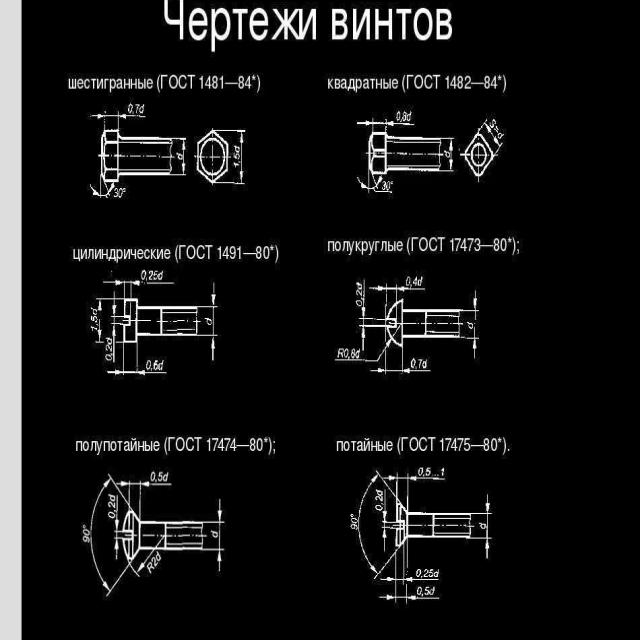marking_line: (210, 285, 218, 363), (216, 497, 224, 574), (382, 474, 447, 483), (116, 478, 177, 487), (471, 292, 479, 360), (378, 575, 442, 583), (91, 114, 150, 122), (379, 594, 439, 601), (373, 369, 432, 376), (102, 278, 142, 287), (113, 500, 119, 556), (107, 370, 147, 378), (388, 117, 417, 127), (181, 140, 189, 176), (358, 280, 366, 316), (371, 285, 407, 293), (447, 139, 455, 170), (240, 134, 245, 183), (358, 329, 369, 351), (98, 298, 102, 339), (357, 119, 372, 128)
numeric: (147, 553, 165, 576), (334, 347, 361, 360), (105, 492, 117, 521), (417, 465, 447, 476), (485, 495, 490, 560), (414, 568, 444, 578), (104, 335, 114, 363), (79, 522, 91, 545), (406, 274, 425, 288), (90, 305, 99, 333), (145, 360, 162, 373), (348, 510, 358, 532), (375, 490, 384, 514), (142, 269, 159, 281), (409, 359, 429, 369), (417, 586, 437, 596), (126, 102, 141, 115), (113, 186, 126, 201), (150, 472, 168, 482), (230, 153, 240, 169), (382, 179, 393, 191), (396, 112, 409, 121)
special_symbol: (91, 180, 115, 201), (358, 177, 377, 194)
